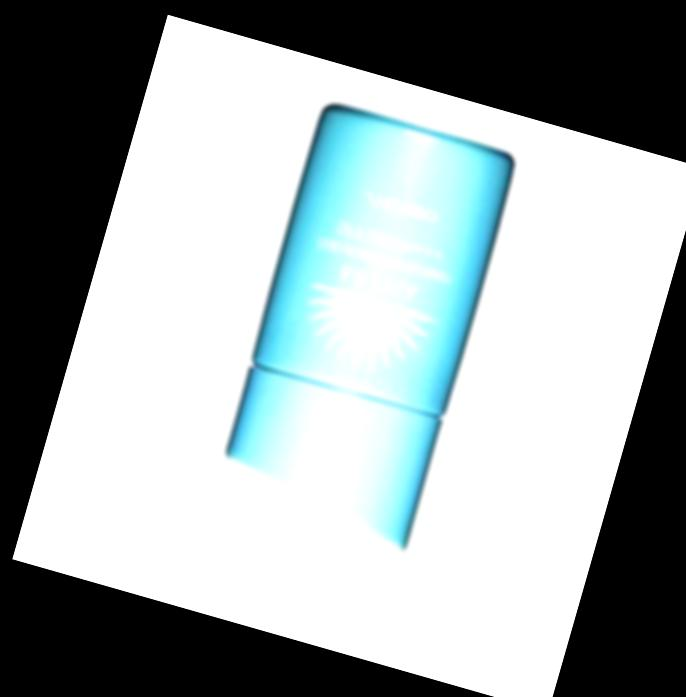cosmetic: (209, 99, 523, 556)
